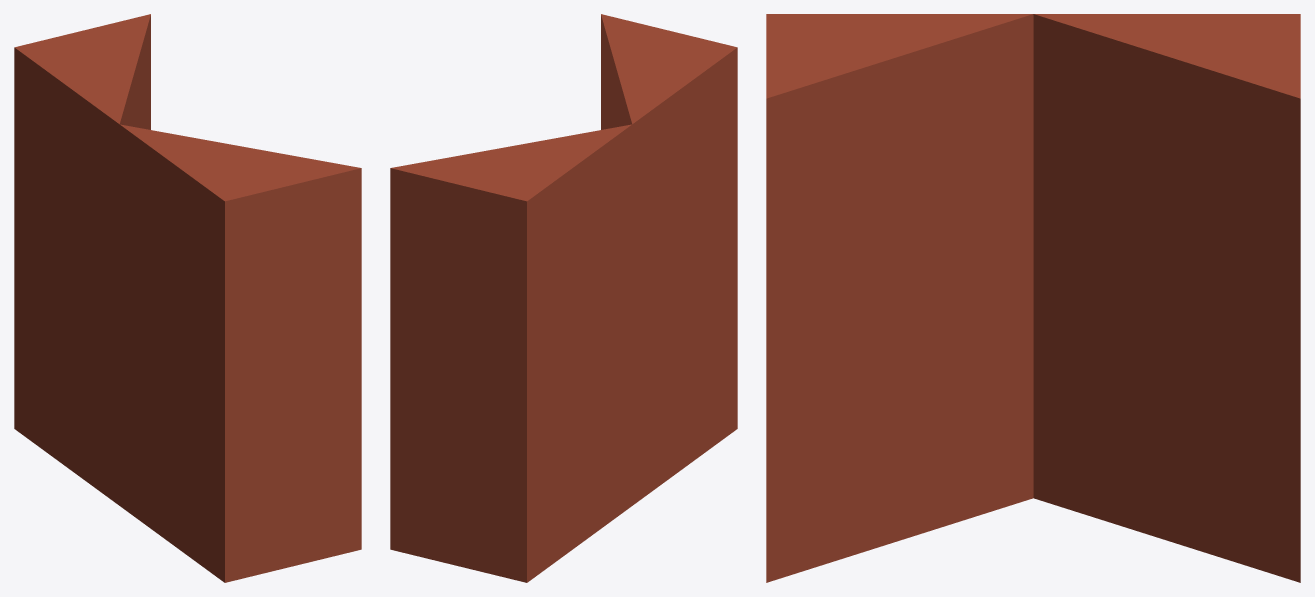
The model's file is r3c7_body_brown.gltf.
3 renders of one model, left to right at view 1: azimuth 30°, elevation 25°; view 2: azimuth 150°, elevation 25°; view 3: azimuth 270°, elevation 25°, orthographic. The views are drawn at different scales.
Parts seen in each view (by area): view 1: r3c7_body_brown; view 2: r3c7_body_brown; view 3: r3c7_body_brown.
Boxes of the visible parts, <box> form: r3c7_body_brown: <box>14,14,361,582</box>; r3c7_body_brown: <box>390,14,737,582</box>; r3c7_body_brown: <box>766,14,1300,582</box>.
Size of what is drawn, in the model's own units: 0.75 by 2 by 2.
1 material, 1 textured.
